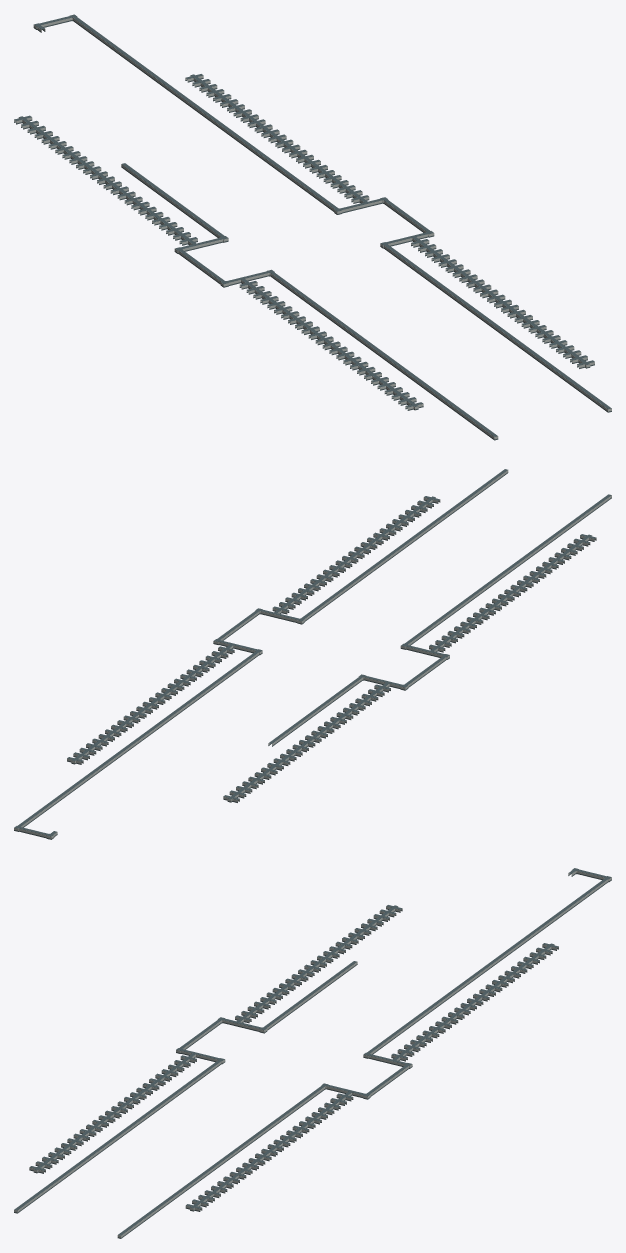
The model's file is AST-STF-G3-001.glb.
3 renders of one model, top to bottom at view 1: azimuth 30°, elevation 25°; view 2: azimuth 150°, elevation 25°; view 3: azimuth 330°, elevation 25°, orthographic. The views are drawn at different scales.
Bounding box in the file's own units: 211 × 3.34 × 935.
4 materials, 4 textured.
